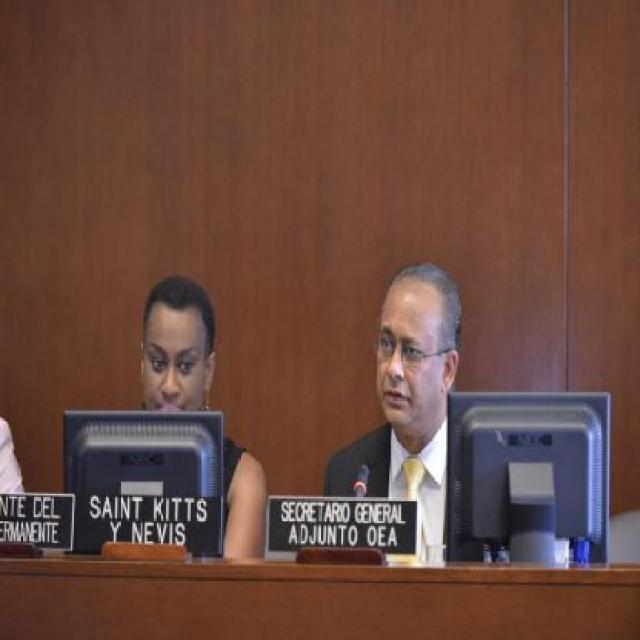obstacle: (328, 264, 494, 578), (124, 266, 265, 552)
